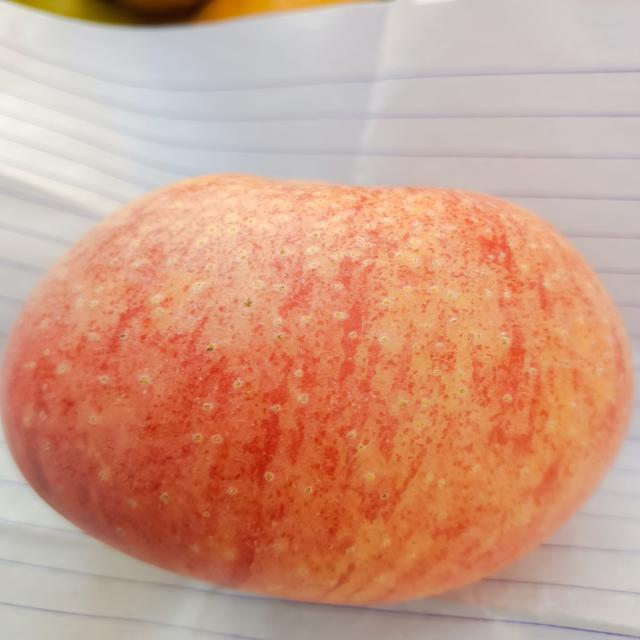Fresh Apple: (35, 175, 623, 613)
